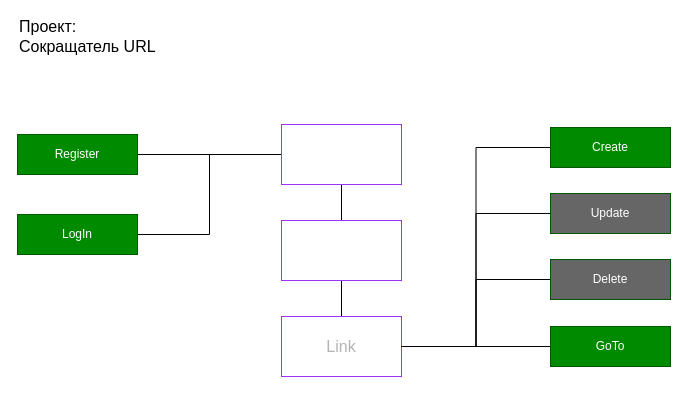
Image size: 688x394. Some labels were removed from this diagram. The centre of each missing label's shape, as x and y in pixels:
"Auth" goes at point (341, 154).
"main" goes at point (341, 250).
